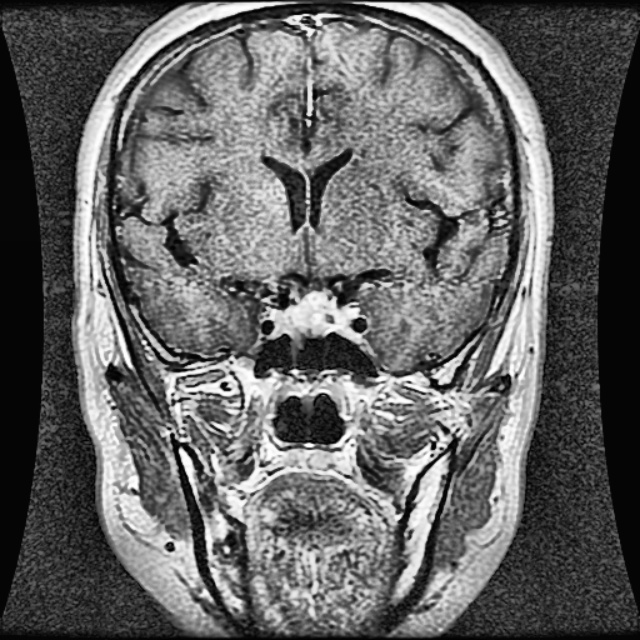Pituitary: (272, 292, 357, 337)
